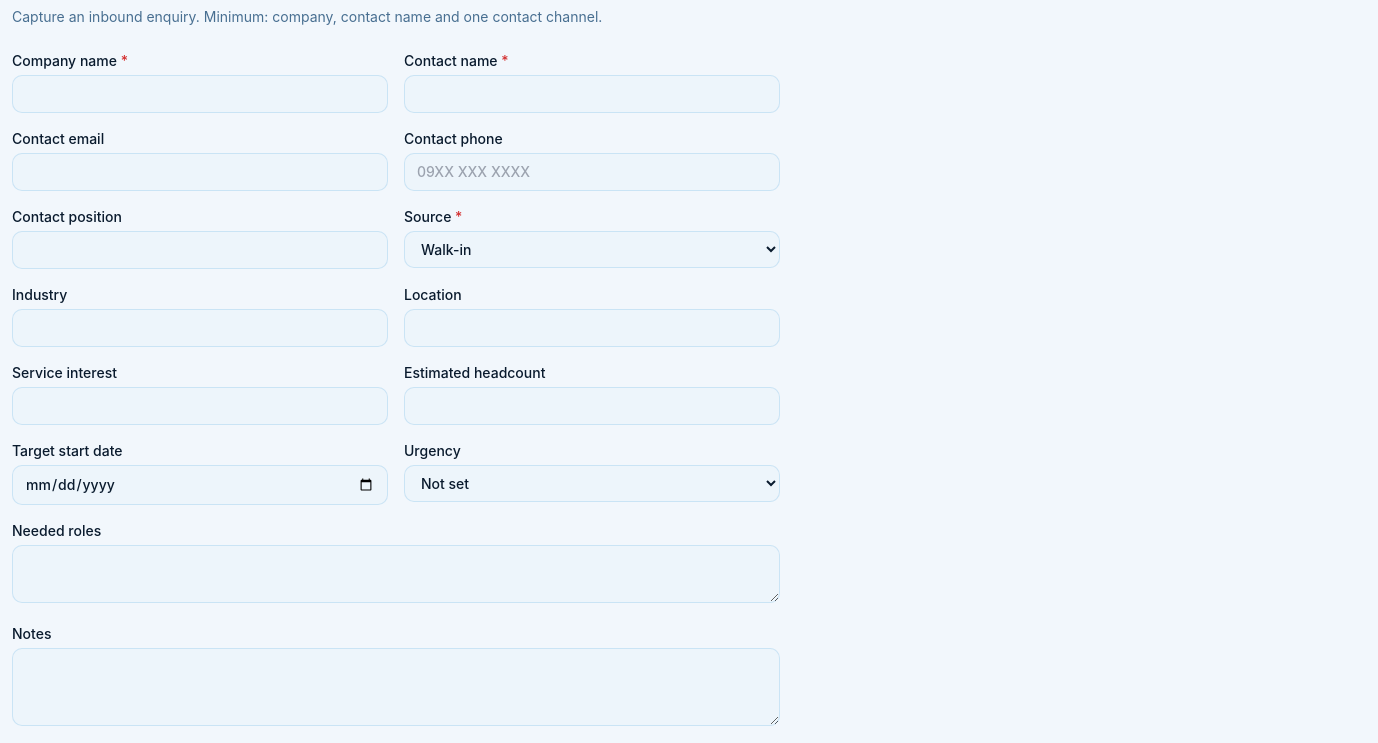
it: NewLead › links the saved lead and every duplicate after an advisory warning
Step 1. Type "Sunrise Foods Inc" into the field labelled "Company name *" → (200, 94), box [12,75,388,113]
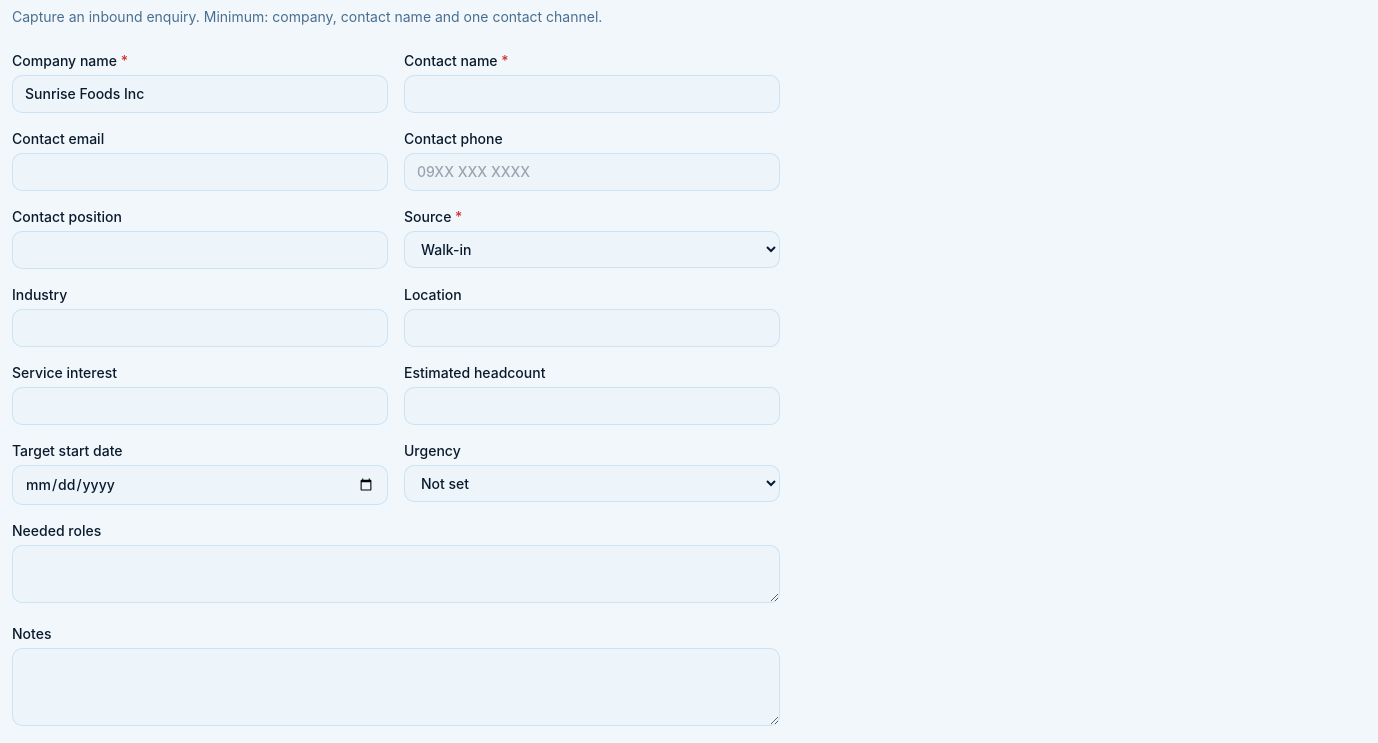
Step 2. Type "Rosa Dela Cruz" into the field labelled "Contact name *" → (592, 94), box [404,75,780,113]
(page scrolled)
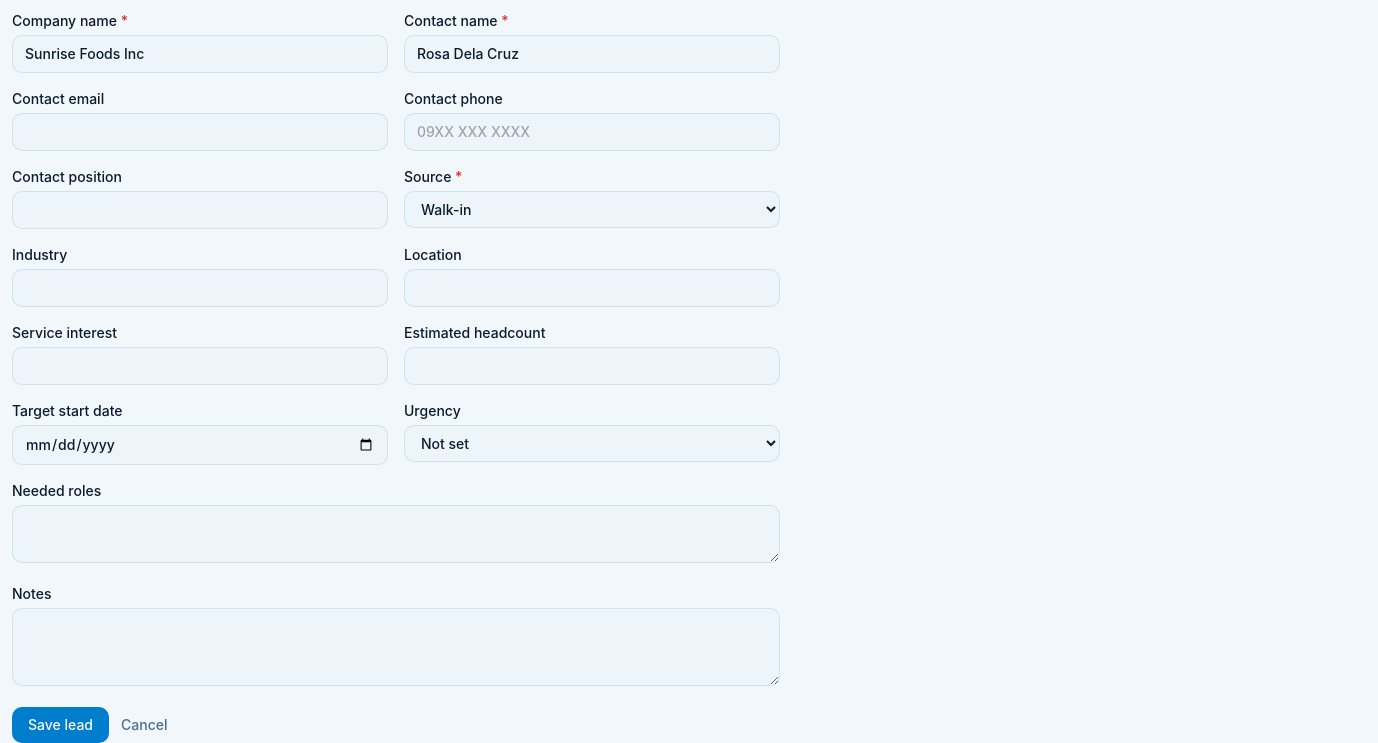
Step 3. Click the button "Save lead" → (60, 725), box [12,707,109,742]
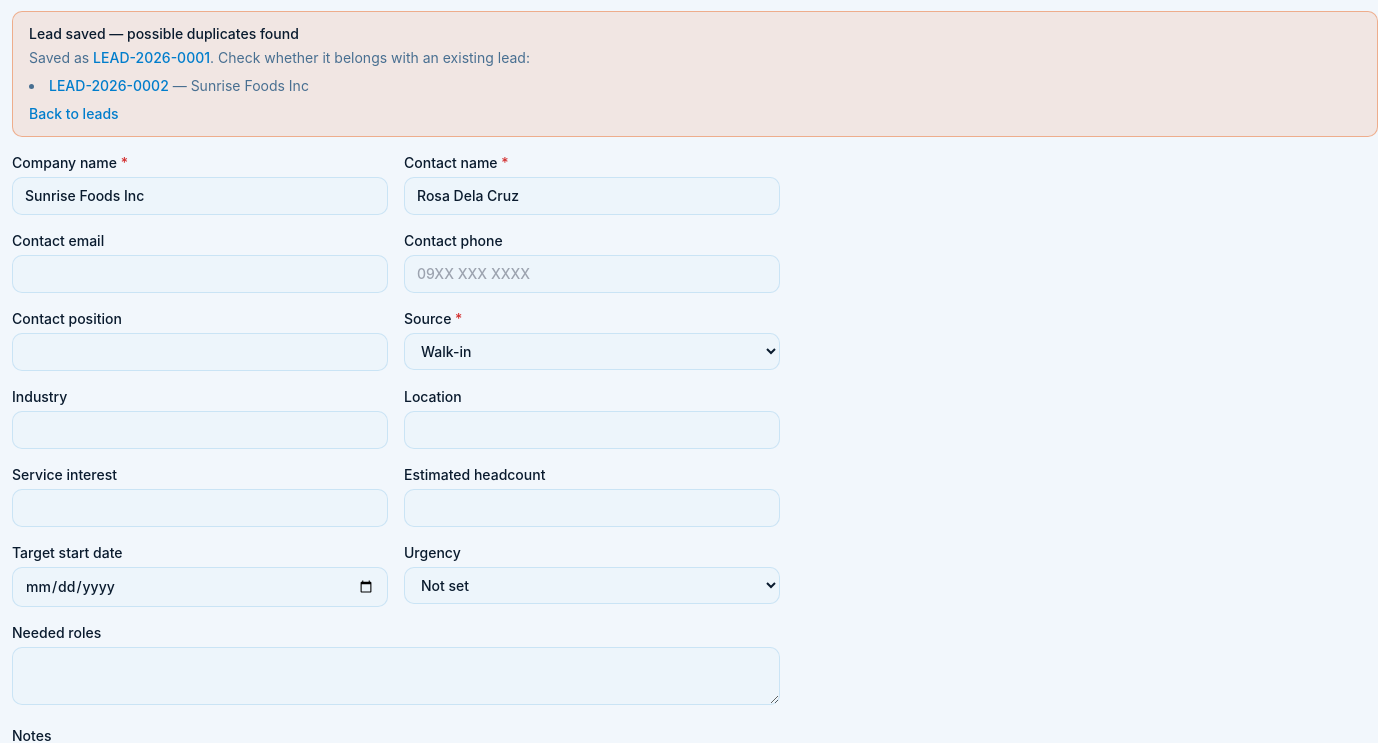
Now the text "Lead saved — possible duplicates found" is shown, box [29,25,299,42]
